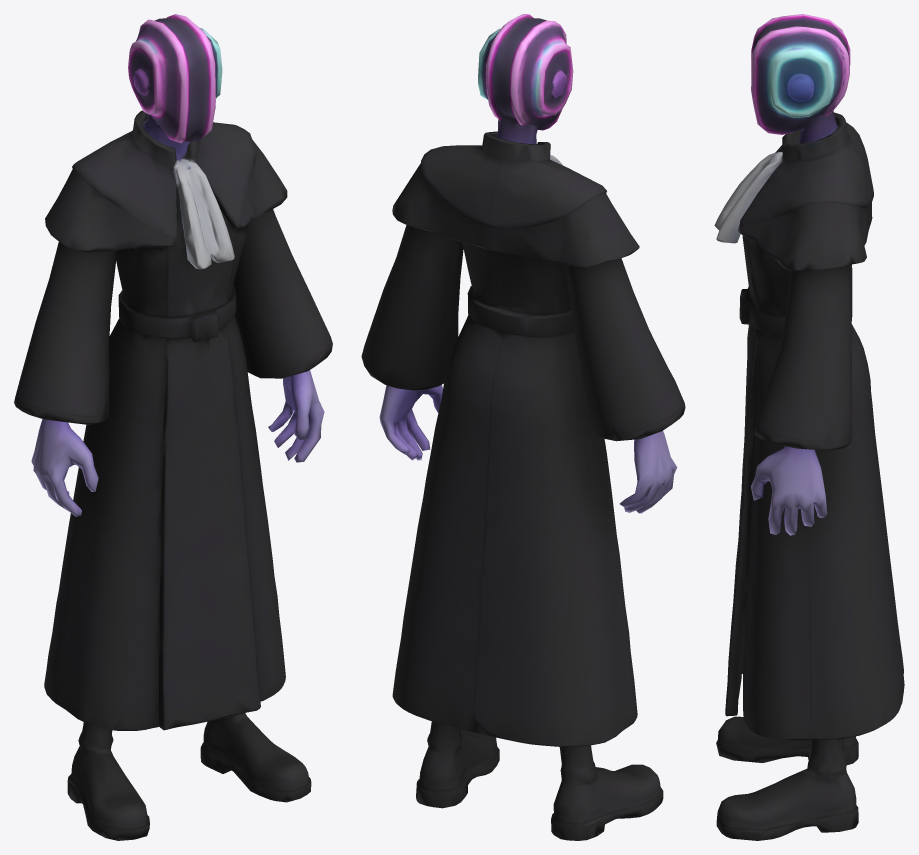
File: judge.glb
3 views of the same model, side by side, from view 1: azimuth 30°, elevation 25°; view 2: azimuth 150°, elevation 25°; view 3: azimuth 270°, elevation 25° (orthographic).
Parts seen in each view (by area): view 1: tripo_node_aebc68b8-67b0-40ef-9a17-6896174e4c85; view 2: tripo_node_aebc68b8-67b0-40ef-9a17-6896174e4c85; view 3: tripo_node_aebc68b8-67b0-40ef-9a17-6896174e4c85.
Part boxes in pixels (<box>): tripo_node_aebc68b8-67b0-40ef-9a17-6896174e4c85: <box>14,14,332,840</box>; tripo_node_aebc68b8-67b0-40ef-9a17-6896174e4c85: <box>361,14,685,840</box>; tripo_node_aebc68b8-67b0-40ef-9a17-6896174e4c85: <box>714,14,904,840</box>.
Bounding box in the file's own units: 0.4158 × 1 × 0.2238.
Materials: 1 (1 with a texture image).
